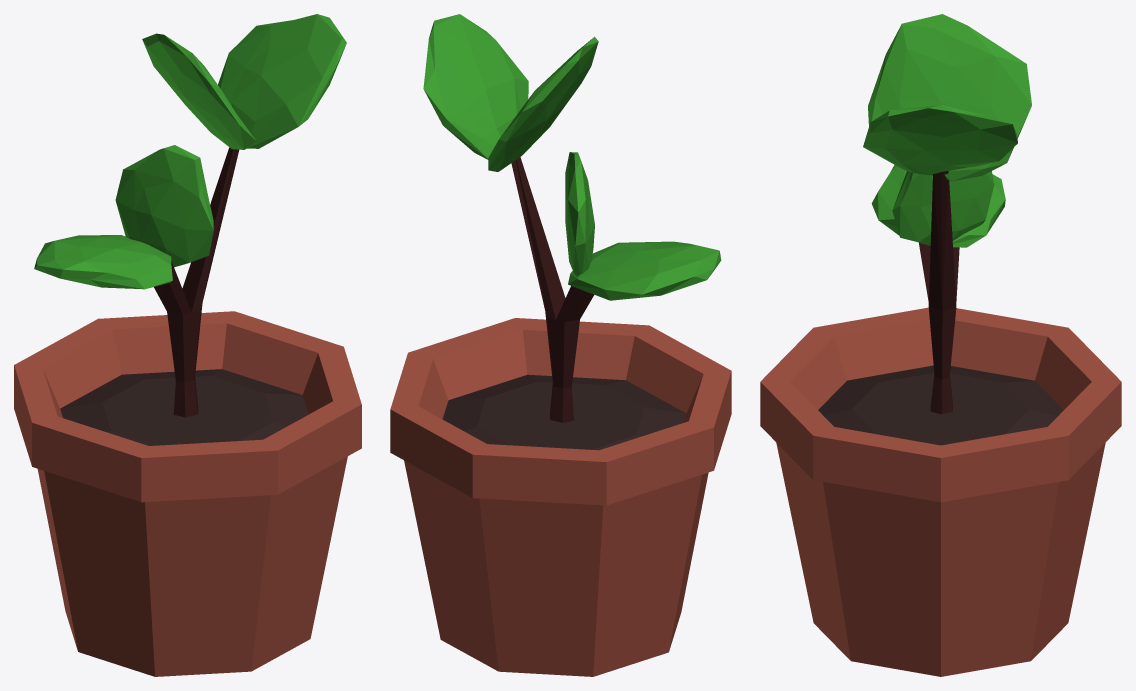
Rendered from tree_1_wowl.fbx.
The picture shows the model from 3 angles, left to right: view 1: azimuth 30°, elevation 25°; view 2: azimuth 150°, elevation 25°; view 3: azimuth 270°, elevation 25°; orthographic projection. The views are drawn at different scales.
Visible parts, largest first — view 1: bowl, tree1; view 2: bowl, tree1; view 3: bowl, tree1.
Boxes of the visible parts, x1,y1,x2,y2 form: bowl: (14,311,361,676); tree1: (34,14,346,417); bowl: (390,318,731,676); tree1: (423,14,721,422); bowl: (760,307,1121,676); tree1: (863,14,1031,414).
Bounding box in the file's own units: 42.38 × 77.37 × 42.38.
